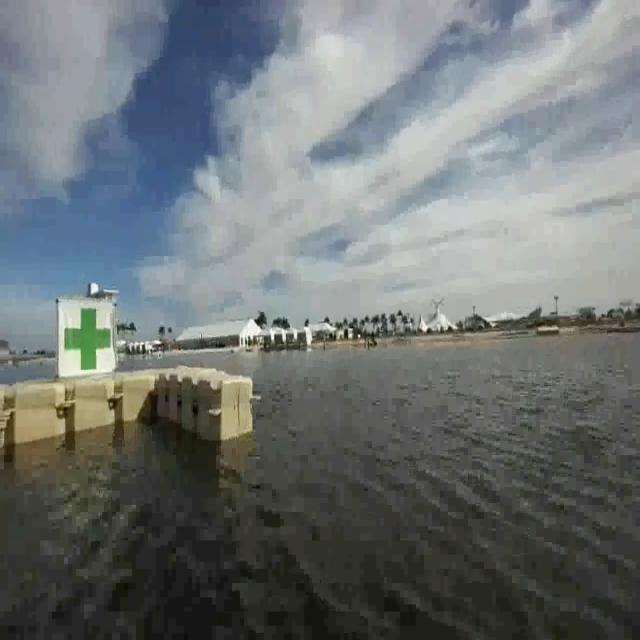blue-cross: (57, 298, 112, 376)
